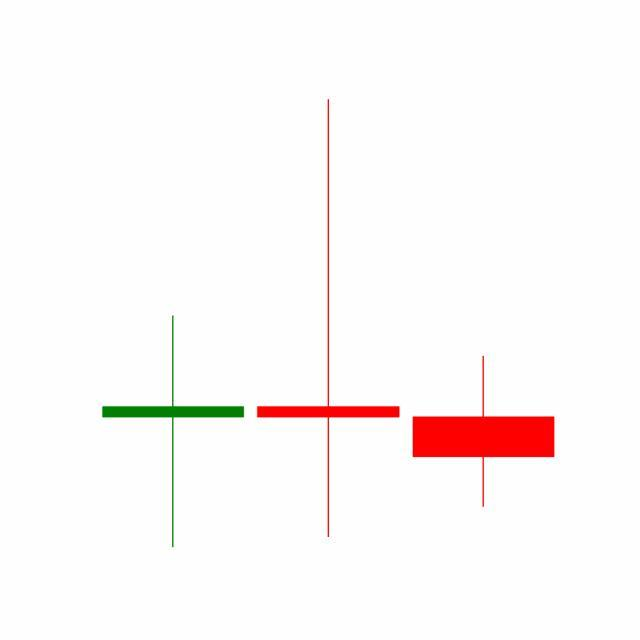Spinning Top: (250, 95, 407, 543)
